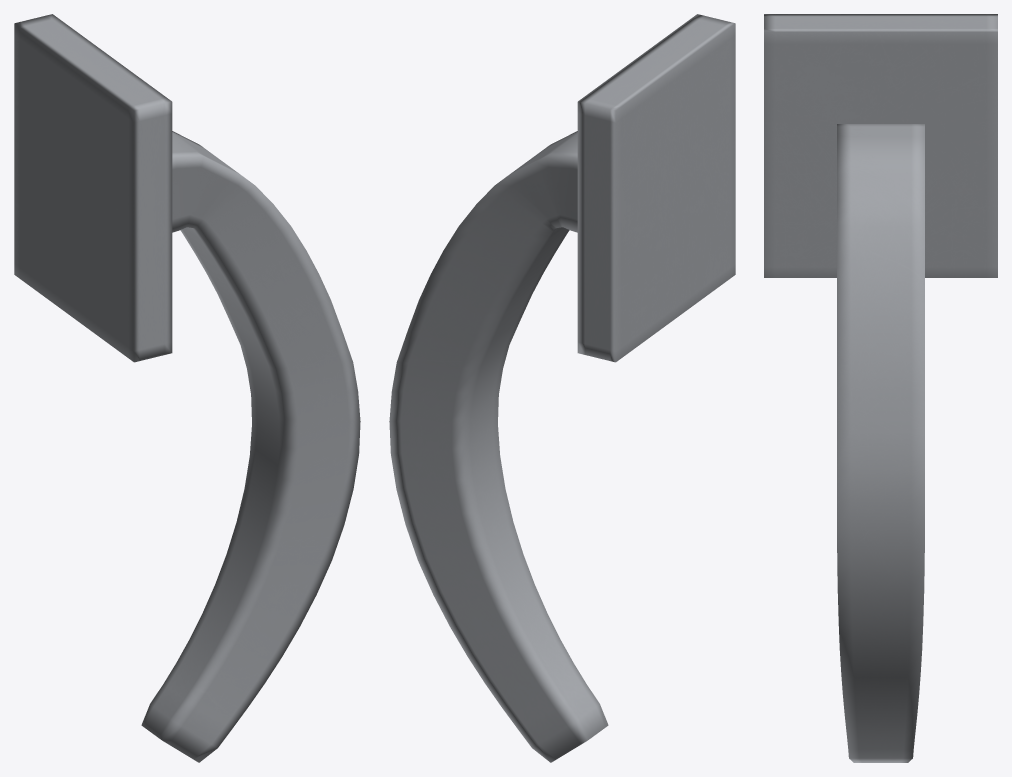
Rendered from Festergriff.fbx.
The picture shows the model from 3 angles, left to right: view 1: azimuth 30°, elevation 25°; view 2: azimuth 150°, elevation 25°; view 3: azimuth 270°, elevation 25°; orthographic projection. The views are drawn at different scales.
Visible parts, largest first — view 1: Fenstergriff; view 2: Fenstergriff; view 3: Fenstergriff.
Part boxes in pixels (<box>): Fenstergriff: <box>14,14,360,762</box>; Fenstergriff: <box>389,14,735,762</box>; Fenstergriff: <box>764,14,997,762</box>.
Bounding box in the file's own units: 10.14 × 26.18 × 7.97.
